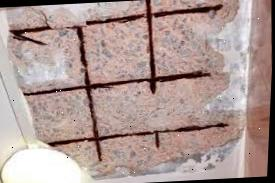exposed_rebar: (23, 0, 227, 160), (9, 26, 51, 43)
spalling: (4, 0, 245, 178)
